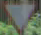Give way: (2, 0, 37, 34)
